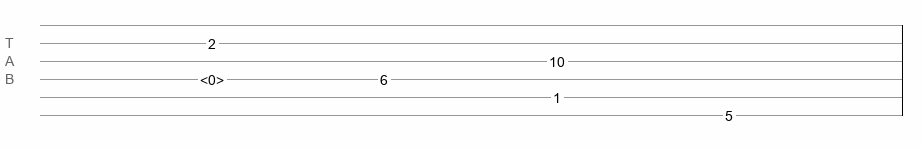1: (553, 90, 561, 100)
10: (549, 54, 565, 64)
2: (208, 36, 216, 46)
5: (725, 108, 733, 118)
6: (380, 72, 388, 82)
harmonic: (200, 72, 224, 82)
